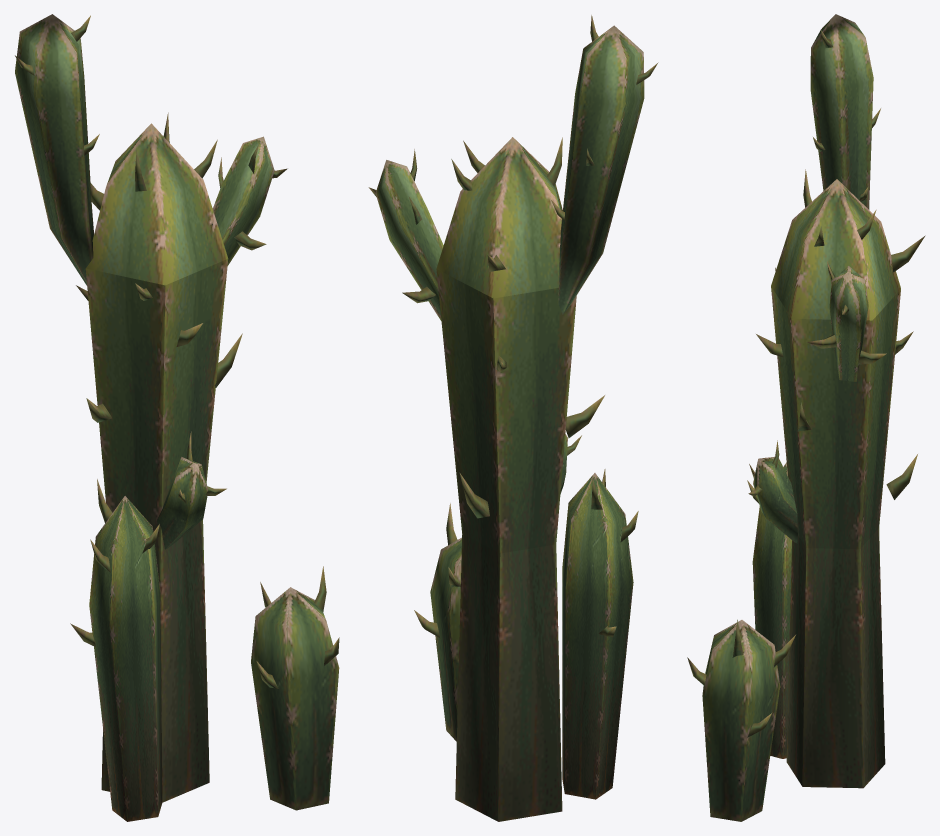
The model's file is Item_5008_shitou_xianrenzhang.FBX.
3 views of the same model, side by side, from view 1: azimuth 30°, elevation 25°; view 2: azimuth 150°, elevation 25°; view 3: azimuth 270°, elevation 25° (orthographic). The views are drawn at different scales.
Visible parts, largest first — view 1: Item_5008_shitou_xianrenzhang; view 2: Item_5008_shitou_xianrenzhang; view 3: Item_5008_shitou_xianrenzhang.
Boxes of the visible parts, bbox=[...] form: Item_5008_shitou_xianrenzhang: bbox=[15, 14, 339, 821]; Item_5008_shitou_xianrenzhang: bbox=[368, 15, 658, 821]; Item_5008_shitou_xianrenzhang: bbox=[687, 14, 925, 821].
Bounding box in the file's own units: 181 × 487 × 148.
